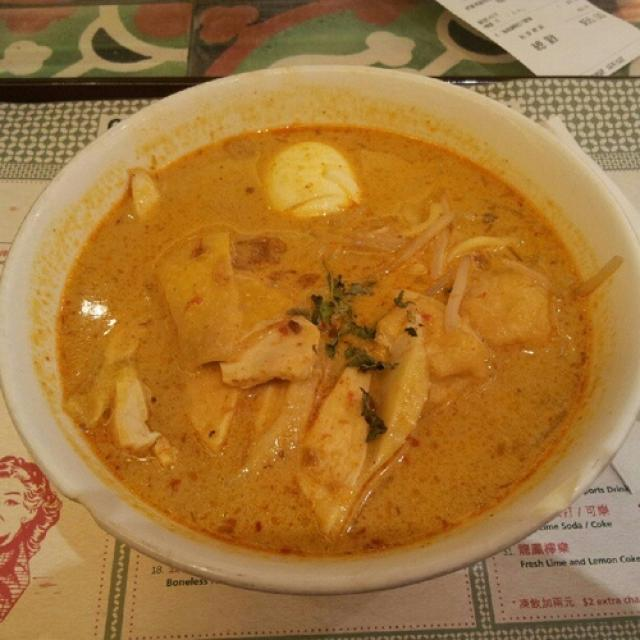面条主食: (18, 53, 621, 592)
